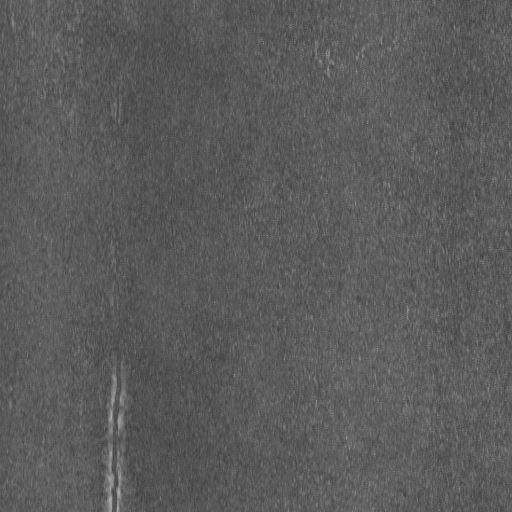zongxiangliewen: (105, 353, 128, 511)
